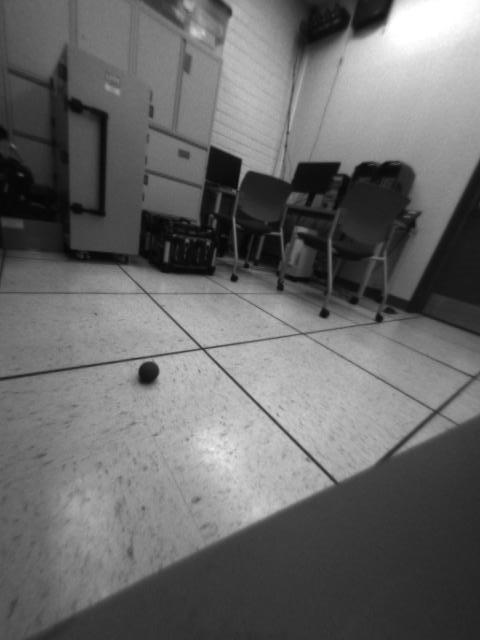dogtoy: (132, 353, 169, 390)
